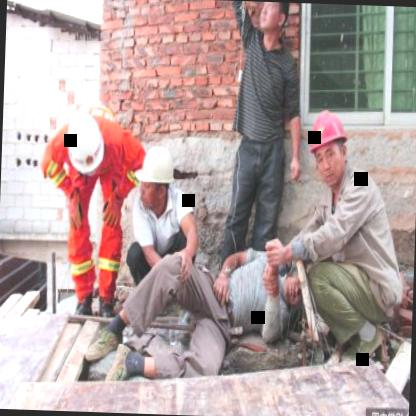head: (278, 266, 310, 311), (256, 2, 292, 38)
helmet: (57, 108, 110, 188), (306, 106, 354, 189), (136, 145, 178, 214)
